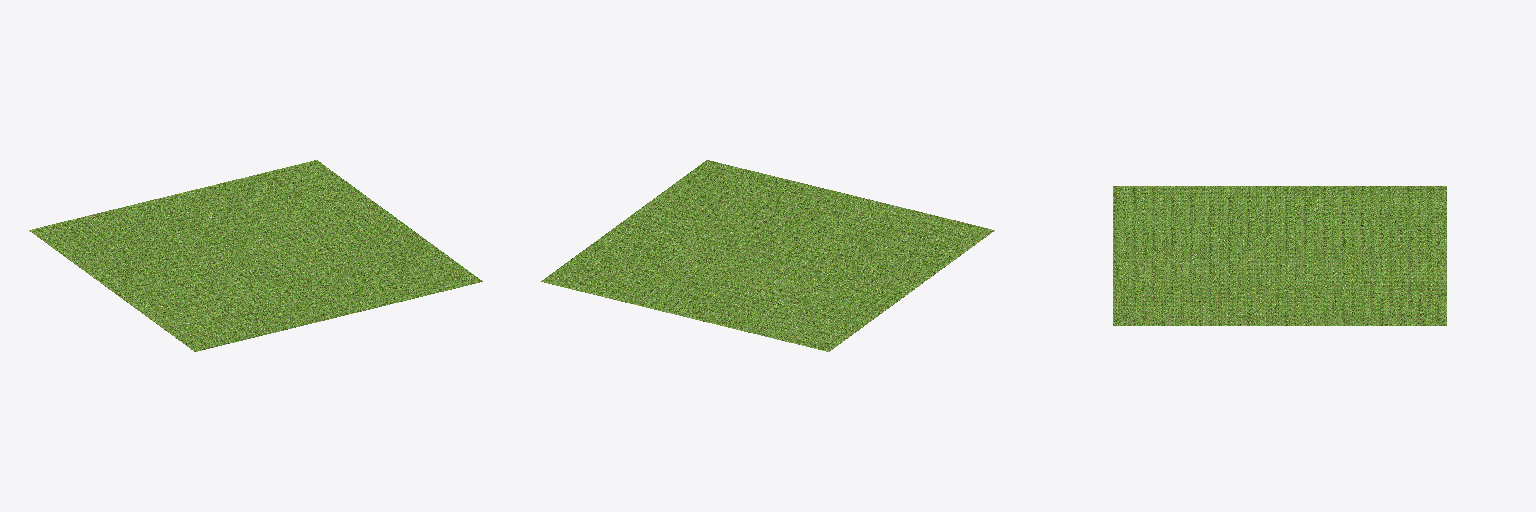
3 views of the same model, side by side, from view 1: azimuth 30°, elevation 25°; view 2: azimuth 150°, elevation 25°; view 3: azimuth 270°, elevation 25° (orthographic).
Parts seen in each view (by area): view 1: Plane; view 2: Plane; view 3: Plane.
Part boxes in pixels (left/top/right/bottom): Plane: left=29, top=160, right=482, bottom=351; Plane: left=541, top=160, right=994, bottom=351; Plane: left=1113, top=186, right=1446, bottom=325.
Bounding box in the file's own units: 2 × 0 × 2.
Materials: 1 (1 with a texture image).